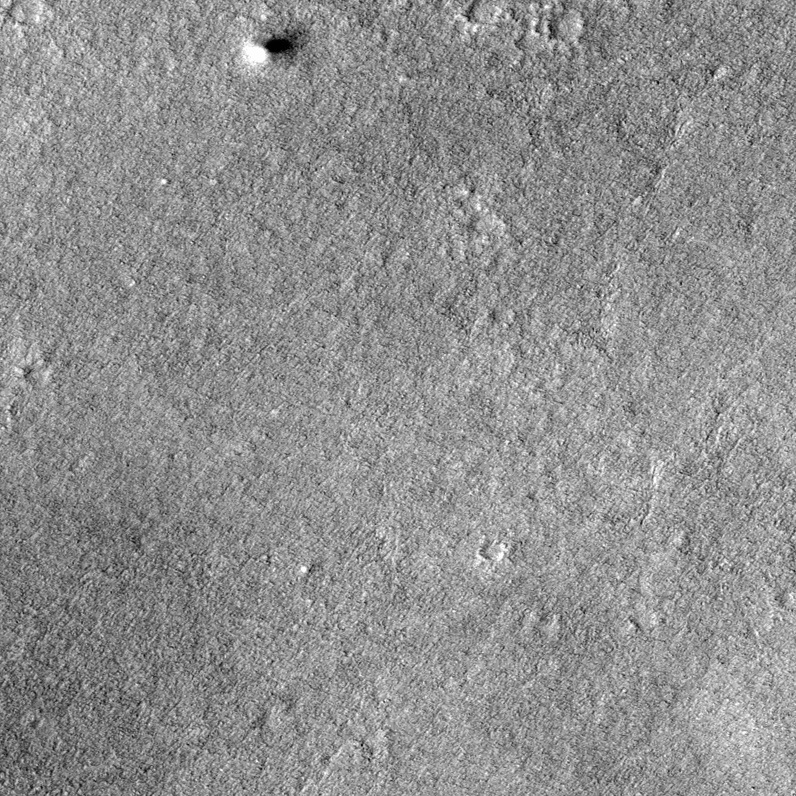dust_devil: (240, 20, 313, 65)
